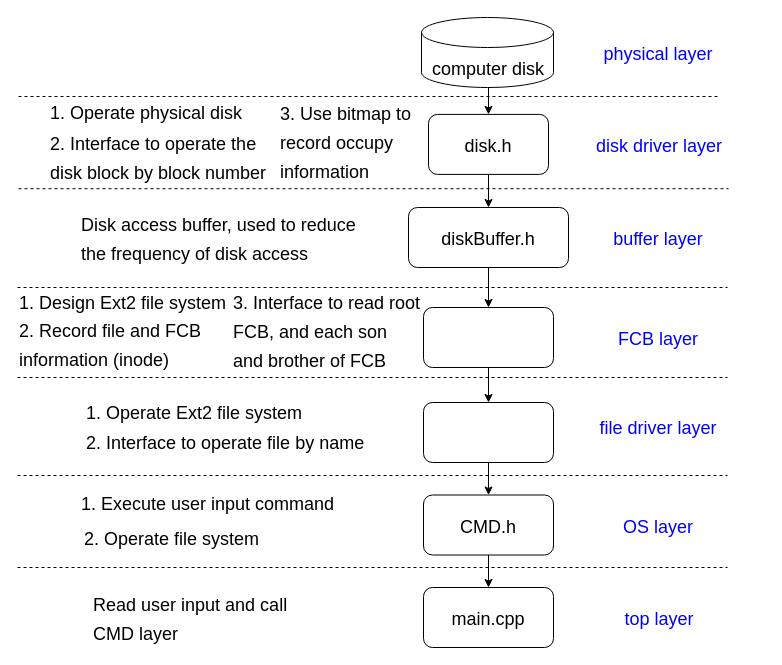
Image size: 782x665. Some labels were removed from this diagram. Each missing label, with the centre of its shape:
"FCB.h" goes at point (488, 337).
"fileStream.h" goes at point (488, 432).
